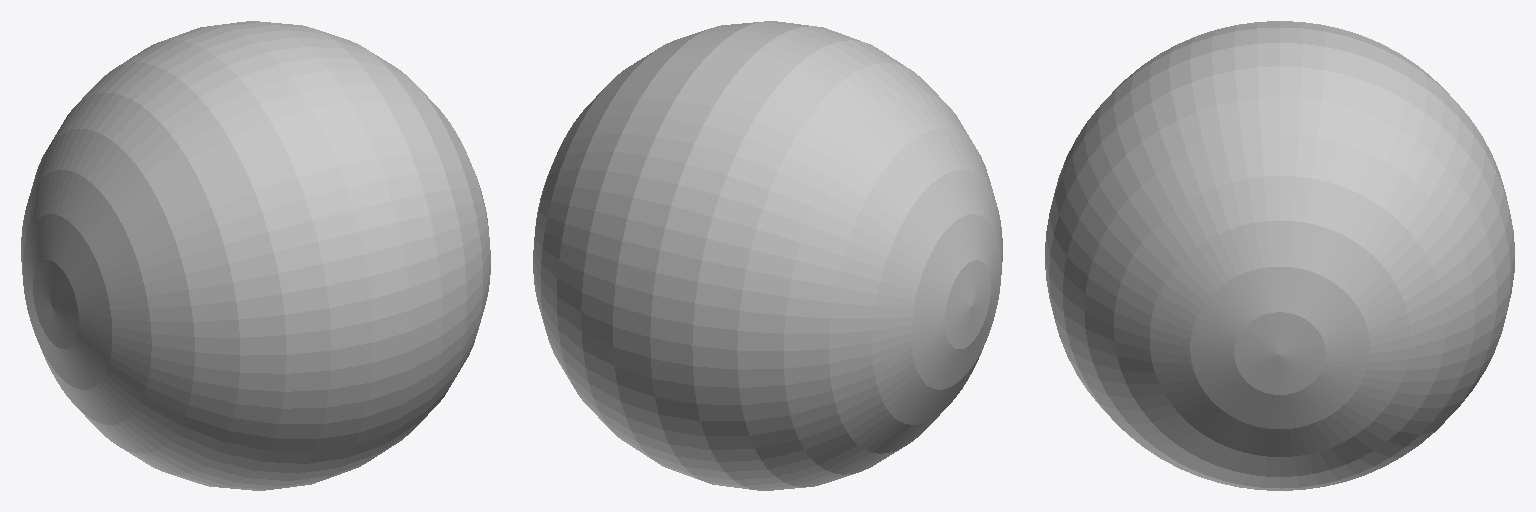
The model's file is marsBuilt.obj.
3 renders of one model, left to right at view 1: azimuth 30°, elevation 25°; view 2: azimuth 150°, elevation 25°; view 3: azimuth 270°, elevation 25°, orthographic.
Parts seen in each view (by area): view 1: Plane; view 2: Plane; view 3: Plane.
Boxes of the visible parts, x1,y1,x2,y2 form: Plane: [21, 21, 490, 490]; Plane: [533, 21, 1002, 490]; Plane: [1045, 21, 1514, 490].
Bounding box in the file's own units: 1.27 × 1.27 × 1.27.